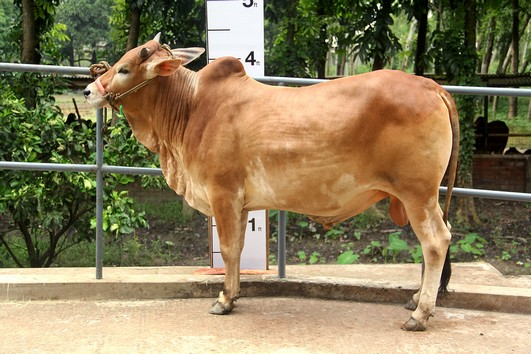cow: (79, 32, 461, 336)
